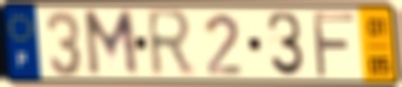2: (201, 11, 245, 78)
3: (264, 10, 307, 79), (44, 8, 83, 79)
F: (310, 9, 358, 80)
M: (80, 8, 142, 80)
R: (144, 6, 198, 80)
